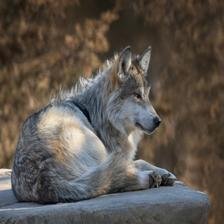WOLF: (13, 46, 177, 204)
